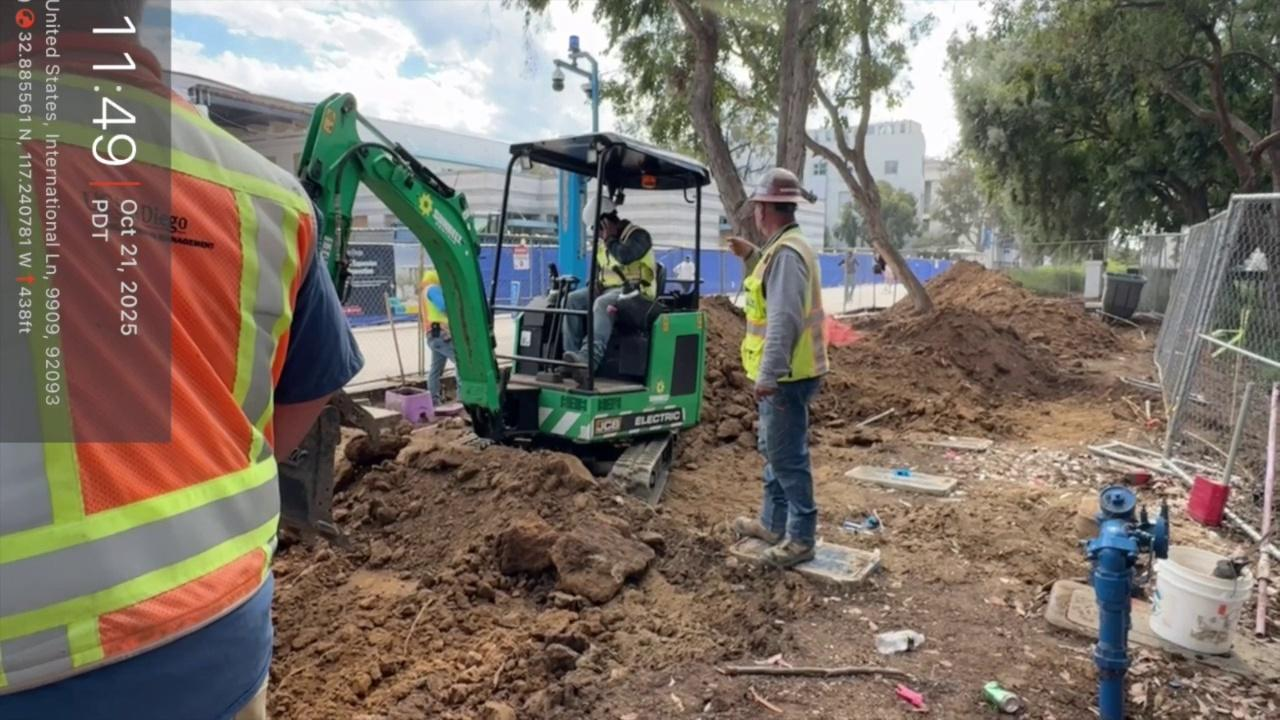Exacavator: (286, 89, 712, 511)
